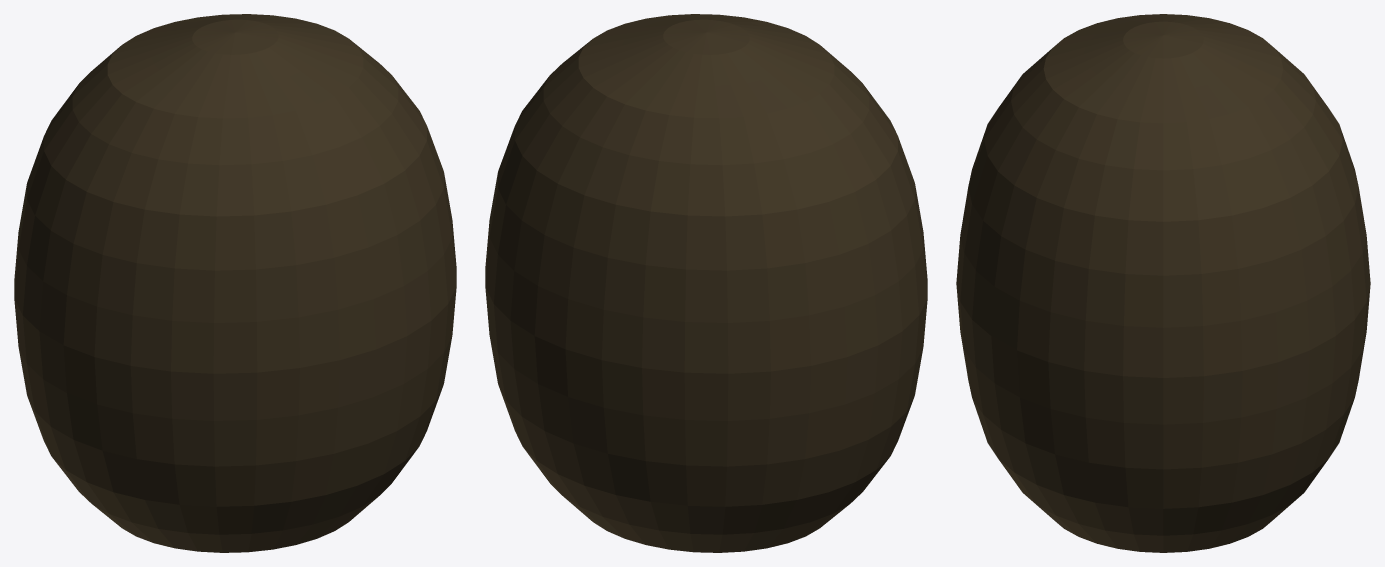
Rendered from poopSciurocheirusAlleni.fbx.
3 views of the same model, side by side, from view 1: azimuth 30°, elevation 25°; view 2: azimuth 150°, elevation 25°; view 3: azimuth 270°, elevation 25° (orthographic).
Visible parts, largest first — view 1: bushbabyPoop; view 2: bushbabyPoop; view 3: bushbabyPoop.
Part boxes in pixels (x1,y1,x2,y2): bushbabyPoop: (14,14,456,552); bushbabyPoop: (485,14,927,552); bushbabyPoop: (956,14,1370,552).
Bounding box in the file's own units: 1.37 × 1.68 × 1.27.
